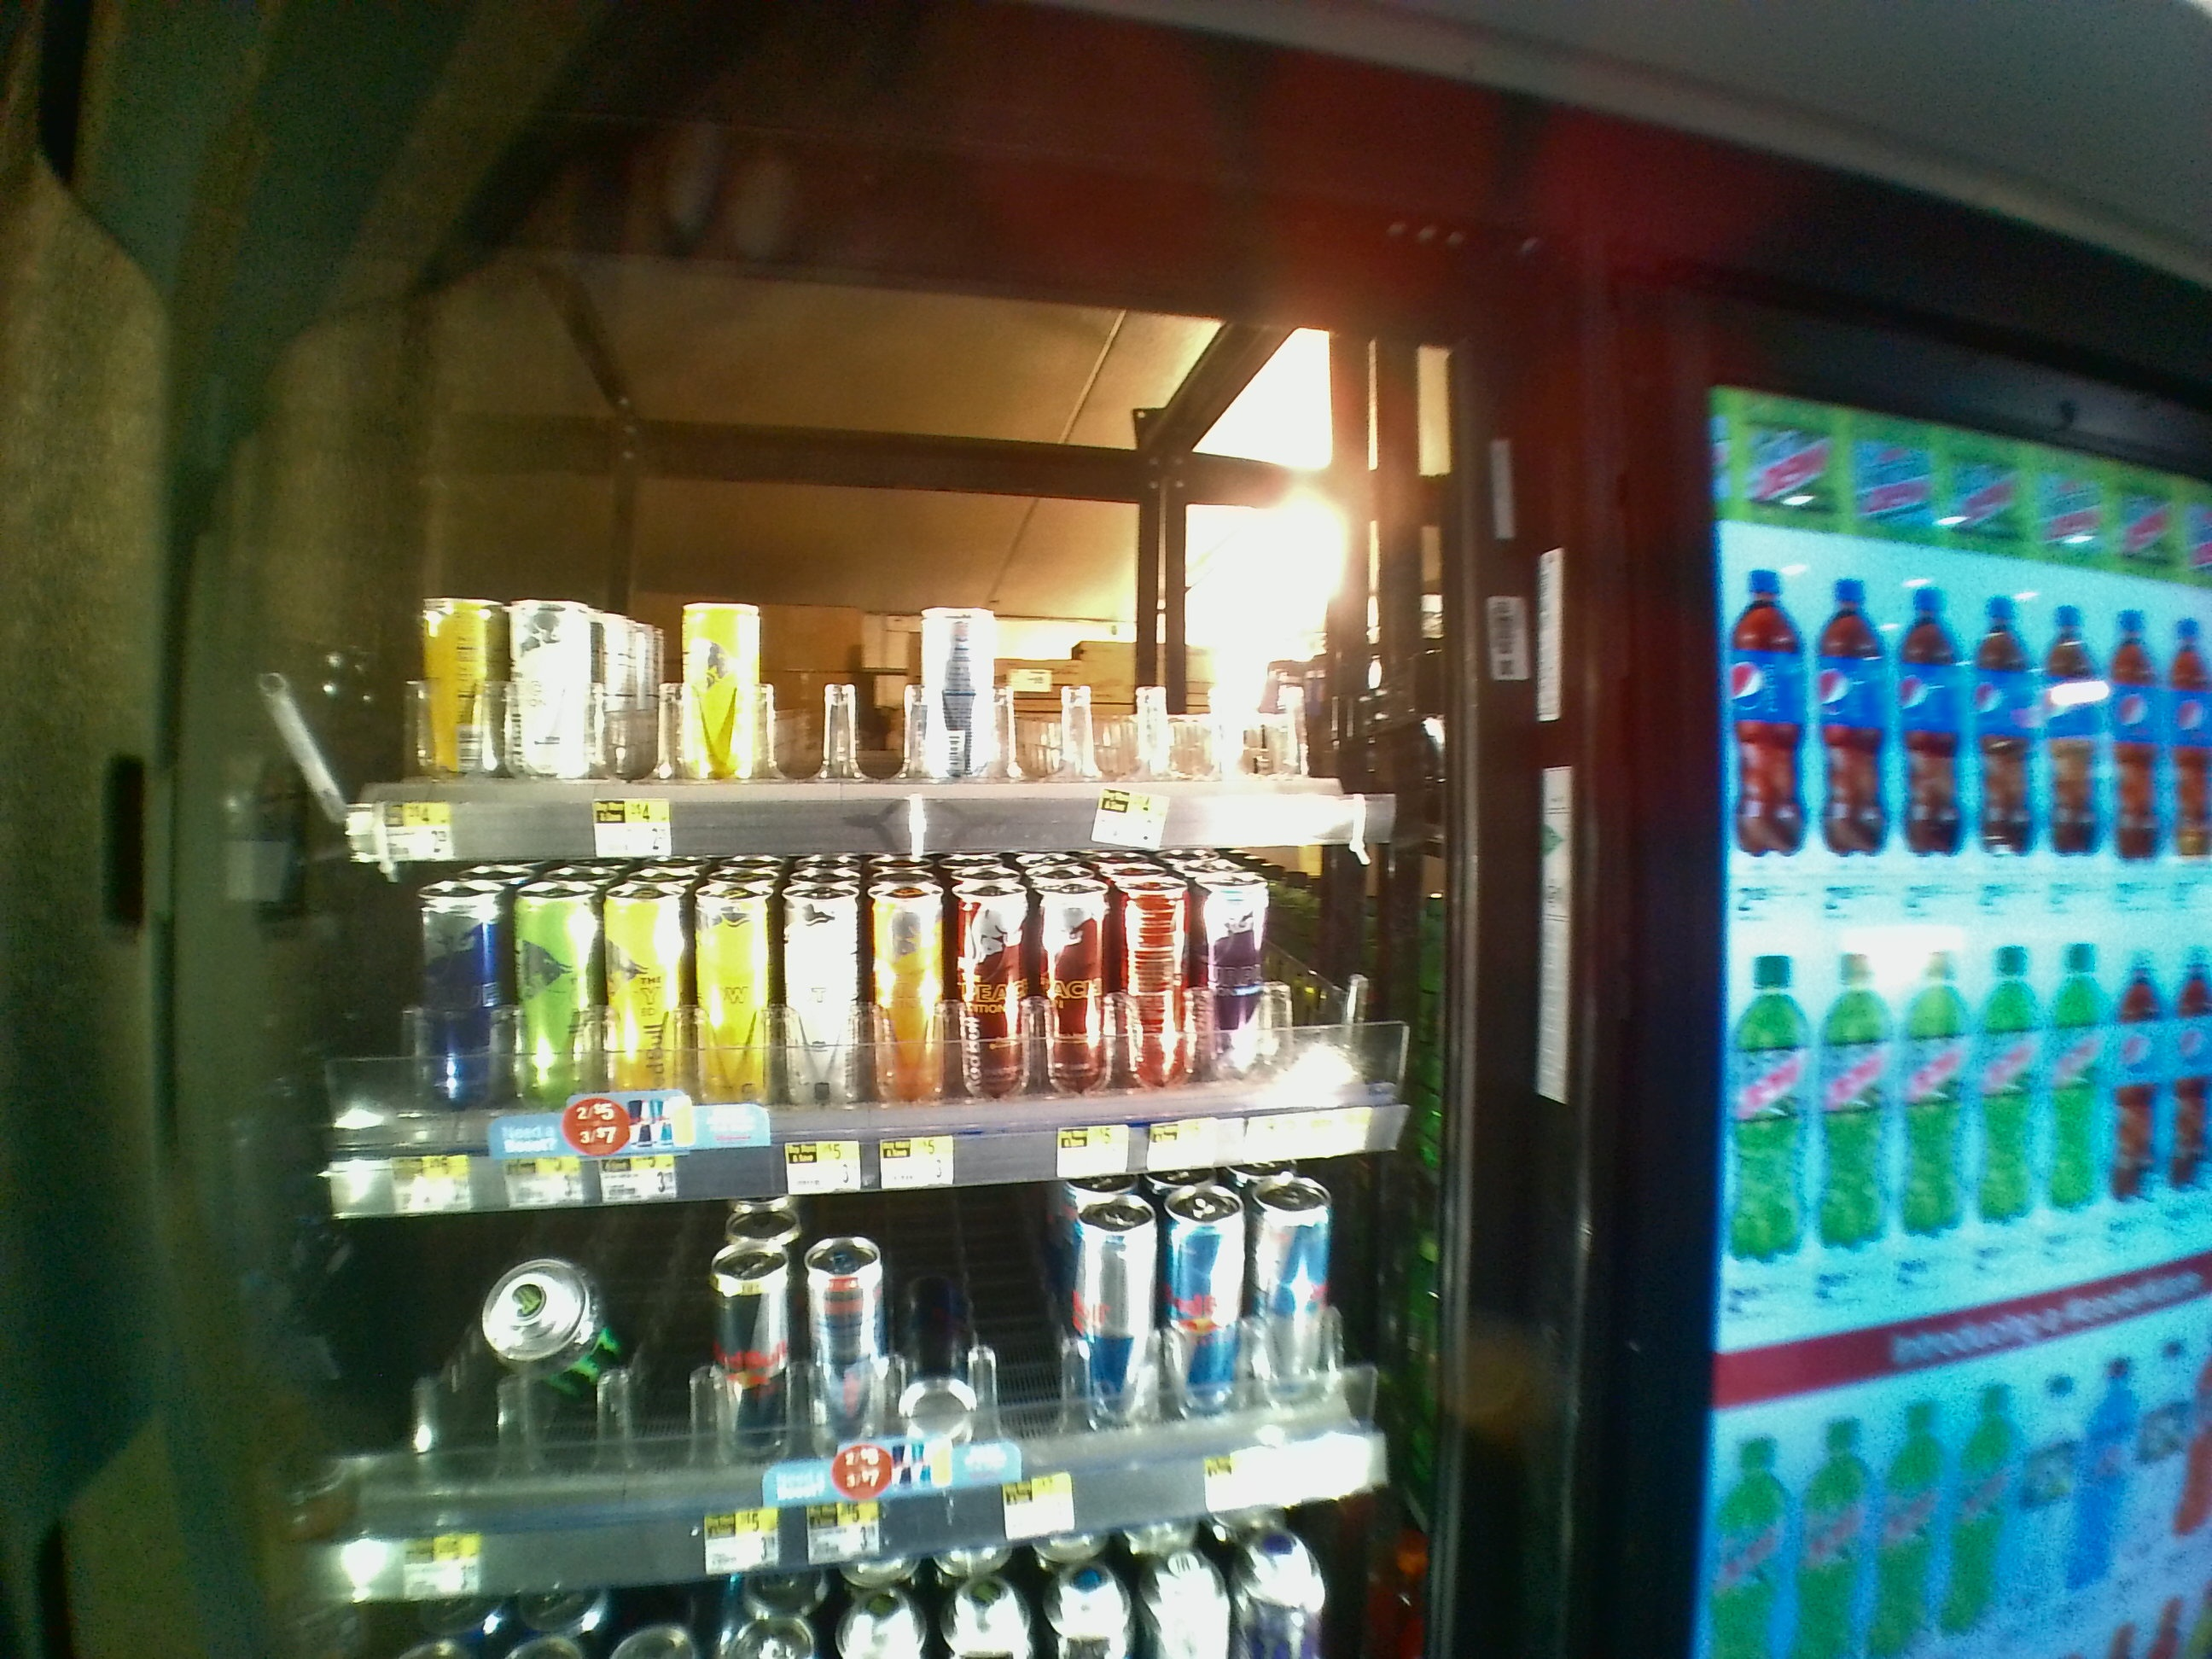shelf: (340, 230, 1454, 854), (314, 843, 1467, 1190)
